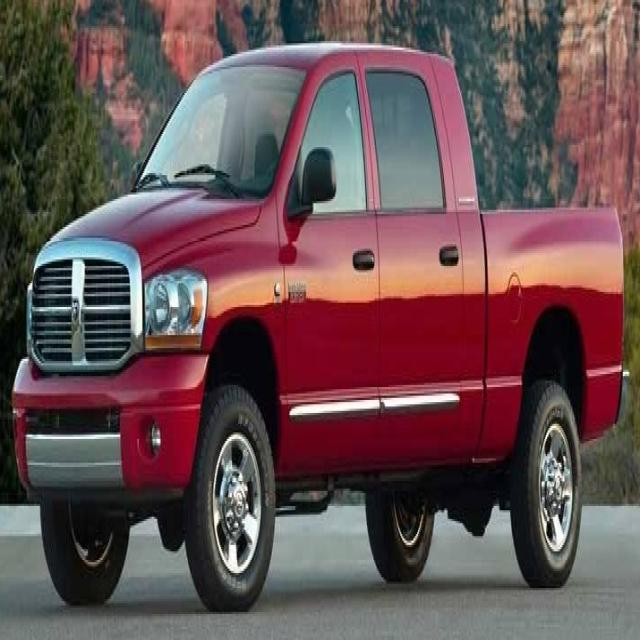CMT: (13, 42, 622, 626)
